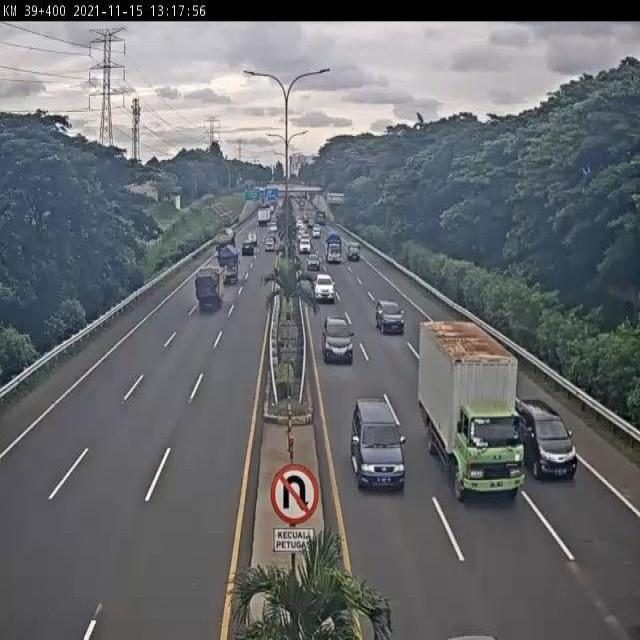car: (348, 395, 409, 492), (515, 398, 578, 478), (323, 315, 357, 364), (377, 299, 407, 337), (313, 273, 336, 304)
truck-m-: (420, 320, 527, 496), (192, 268, 223, 315), (216, 244, 244, 285)
